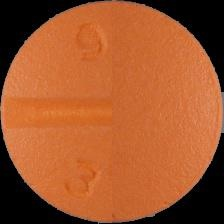0093-0319: (0, 0, 224, 224)
